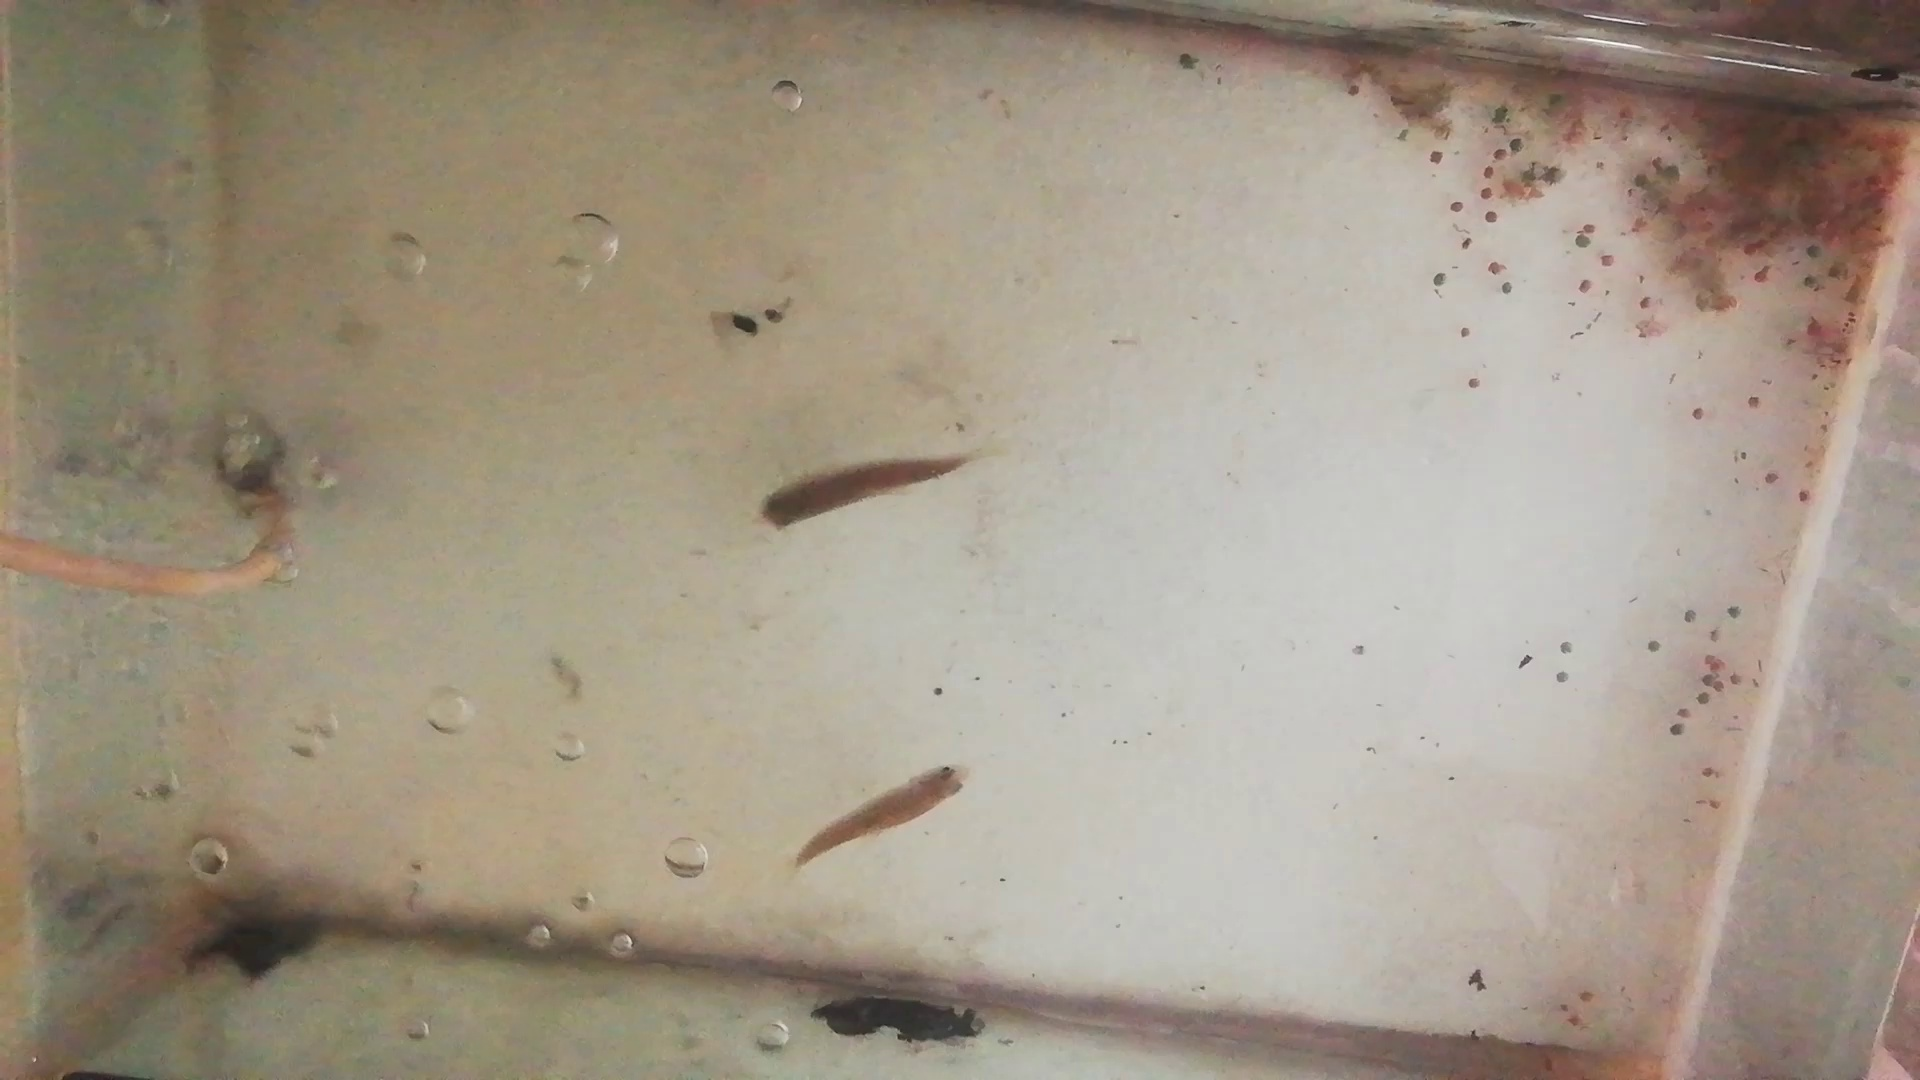fish: (795, 762, 975, 861), (760, 458, 969, 531)
